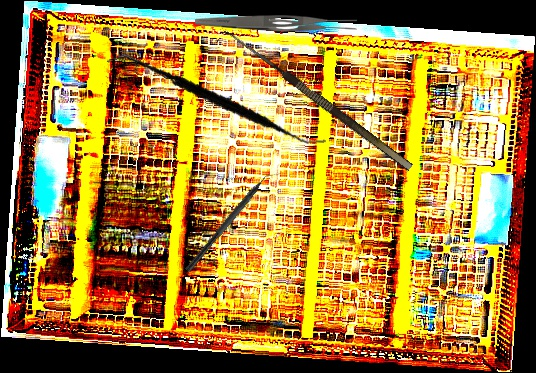Chopper: (185, 164, 281, 279)
Dressing Forceps: (195, 15, 357, 33)
Hook Surgical: (215, 25, 414, 182)
Spatula Surgical: (106, 28, 327, 174)
